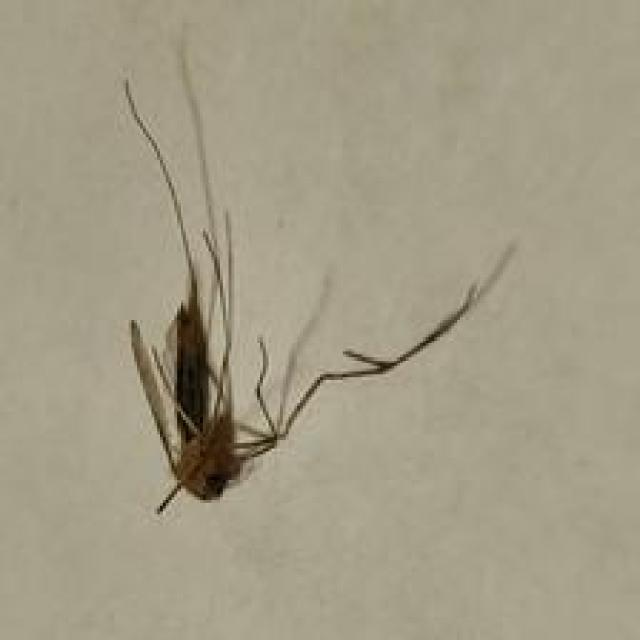Culex: (117, 27, 520, 516)
